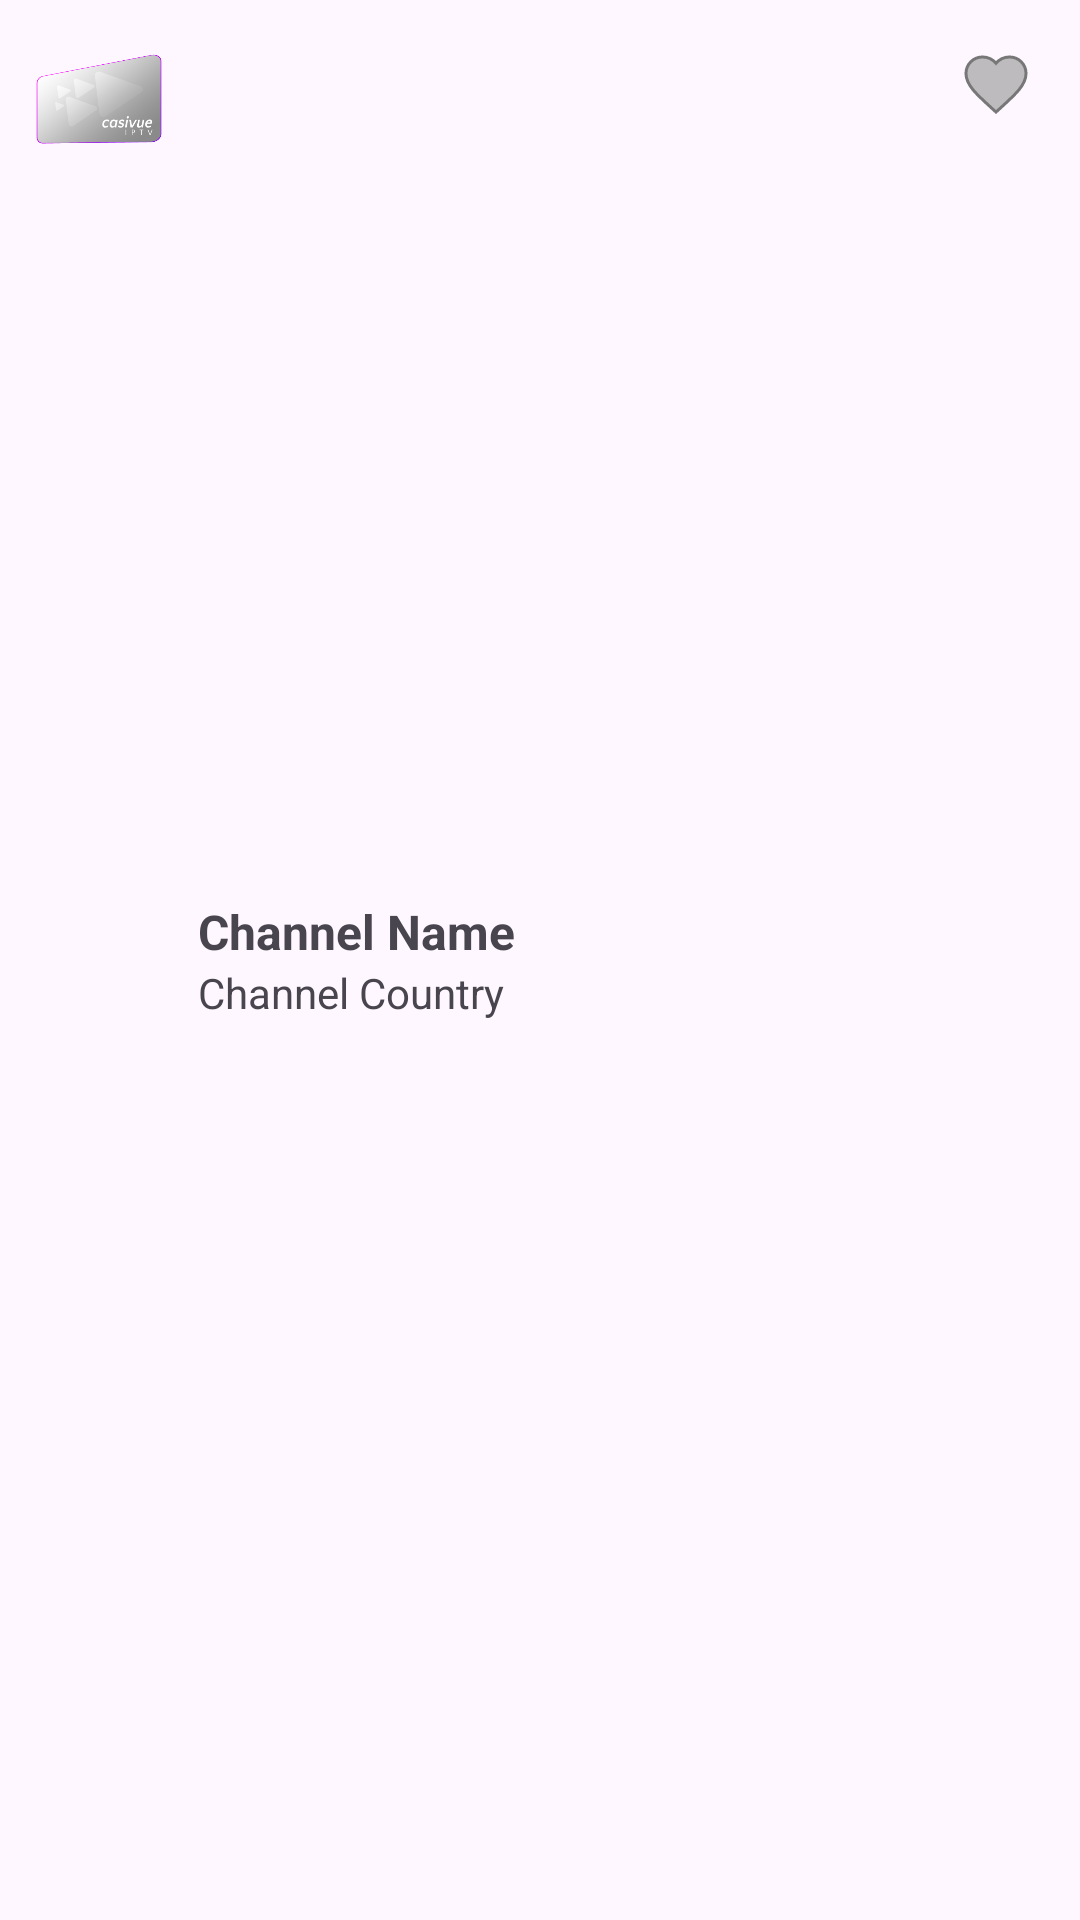

Icons on this 1080w x 1920h Android screen, each with its box as (x1,y1,x2,y2):
Favorite Icon: (964,55,1028,114)
